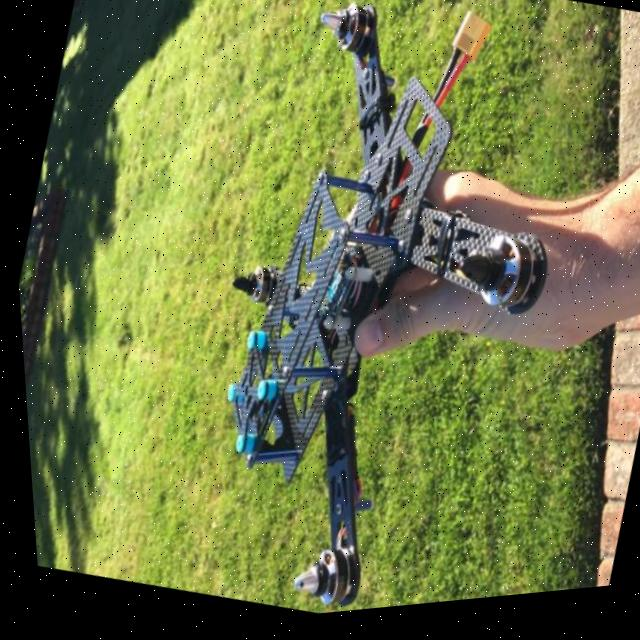drones: (107, 0, 634, 632)
